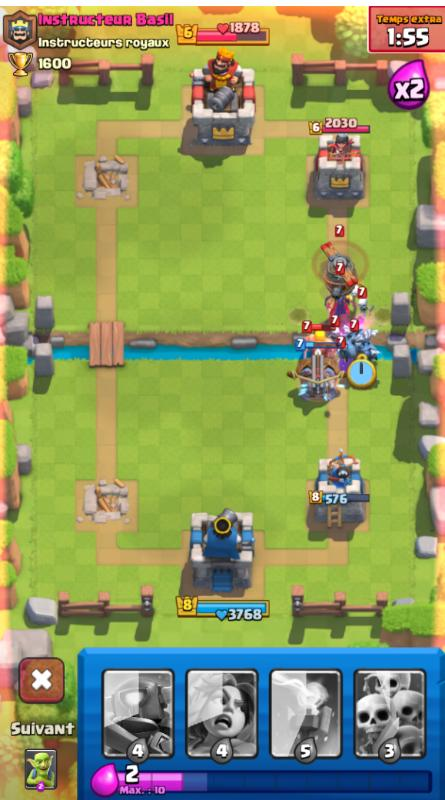gargouille: (342, 321, 384, 340), (335, 337, 363, 365), (355, 340, 384, 363)
squelette: (355, 295, 376, 321)
